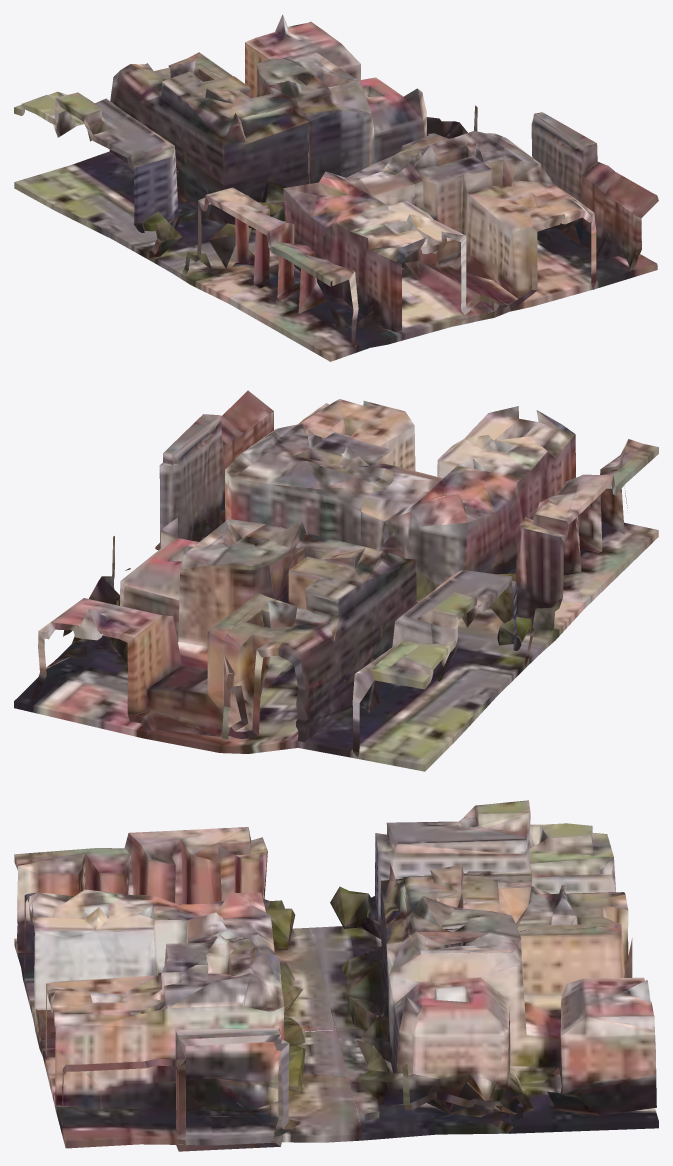
3 renders of one model, top to bottom at view 1: azimuth 30°, elevation 25°; view 2: azimuth 150°, elevation 25°; view 3: azimuth 270°, elevation 25°, orthographic. The views are drawn at different scales.
Visible parts, largest first — view 1: Mesh_0; view 2: Mesh_0; view 3: Mesh_0.
Boxes of the visible parts, x1=… form: Mesh_0: x1=14, y1=14, x2=658, y2=361; Mesh_0: x1=14, y1=390, x2=658, y2=771; Mesh_0: x1=14, y1=800, x2=658, y2=1151.
Size of the model in its own units: 134 by 43.45 by 165.
1 material, 1 textured.
